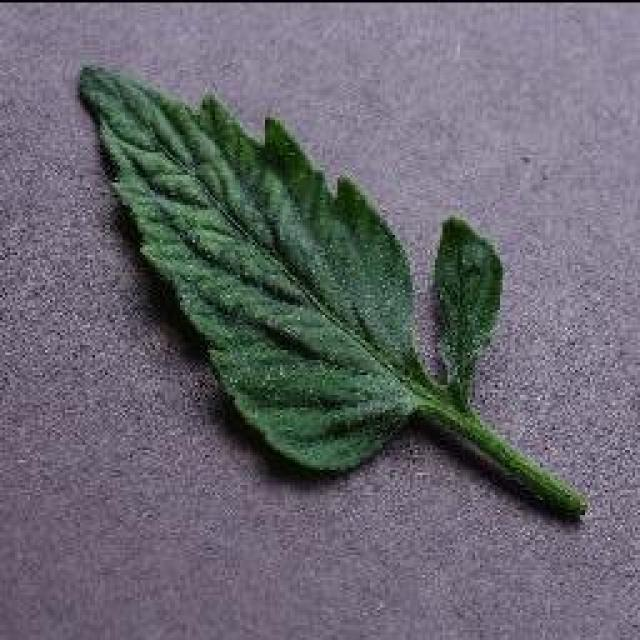Tomato___Tomato_mosaic_virus: (80, 68, 582, 512)
